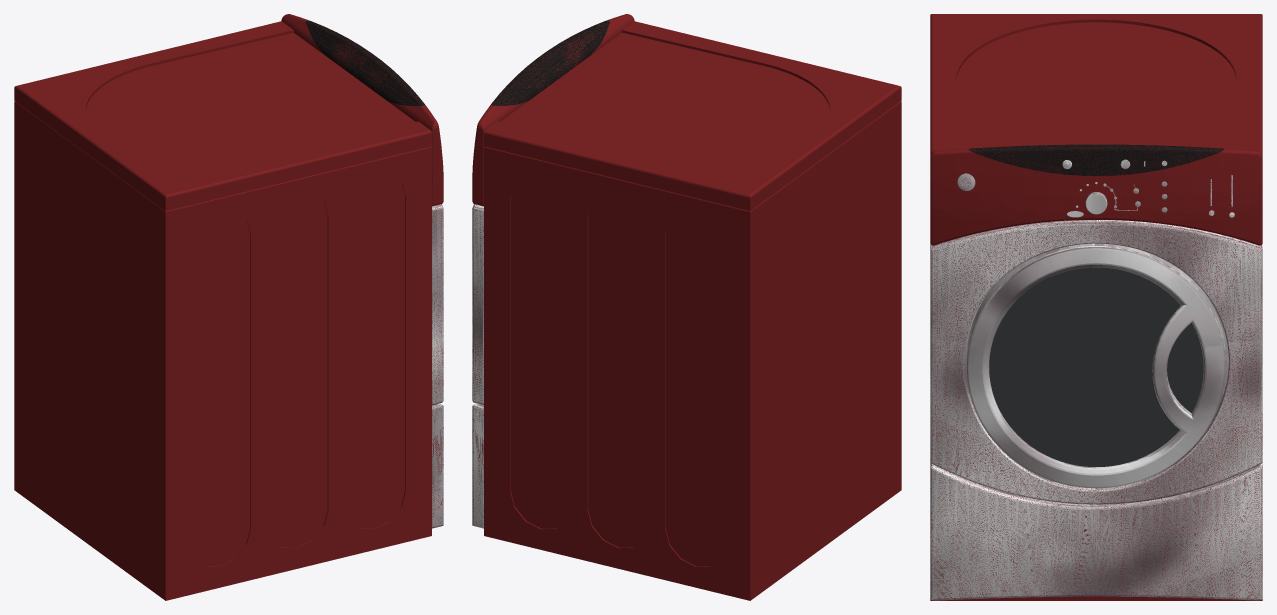
3 renders of one model, left to right at view 1: azimuth 30°, elevation 25°; view 2: azimuth 150°, elevation 25°; view 3: azimuth 270°, elevation 25°, orthographic. The views are drawn at different scales.
Parts seen in each view (by area): view 1: mesh9_mesh9-geometry, mesh1_mesh1-geometry; view 2: mesh9_mesh9-geometry, mesh1_mesh1-geometry; view 3: mesh9_mesh9-geometry, mesh8_mesh8-geometry, mesh1_mesh1-geometry.
Part boxes in pixels (left/top/right/bottom): mesh9_mesh9-geometry: left=14, top=14, right=443, bottom=600; mesh1_mesh1-geometry: left=306, top=20, right=424, bottom=105; mesh9_mesh9-geometry: left=472, top=14, right=901, bottom=600; mesh1_mesh1-geometry: left=491, top=20, right=609, bottom=105; mesh9_mesh9-geometry: left=930, top=14, right=1262, bottom=600; mesh8_mesh8-geometry: left=966, top=243, right=1226, bottom=488; mesh1_mesh1-geometry: left=969, top=144, right=1223, bottom=175.
Size of the model in its own units: 0.5323 by 0.7096 by 0.4617.
